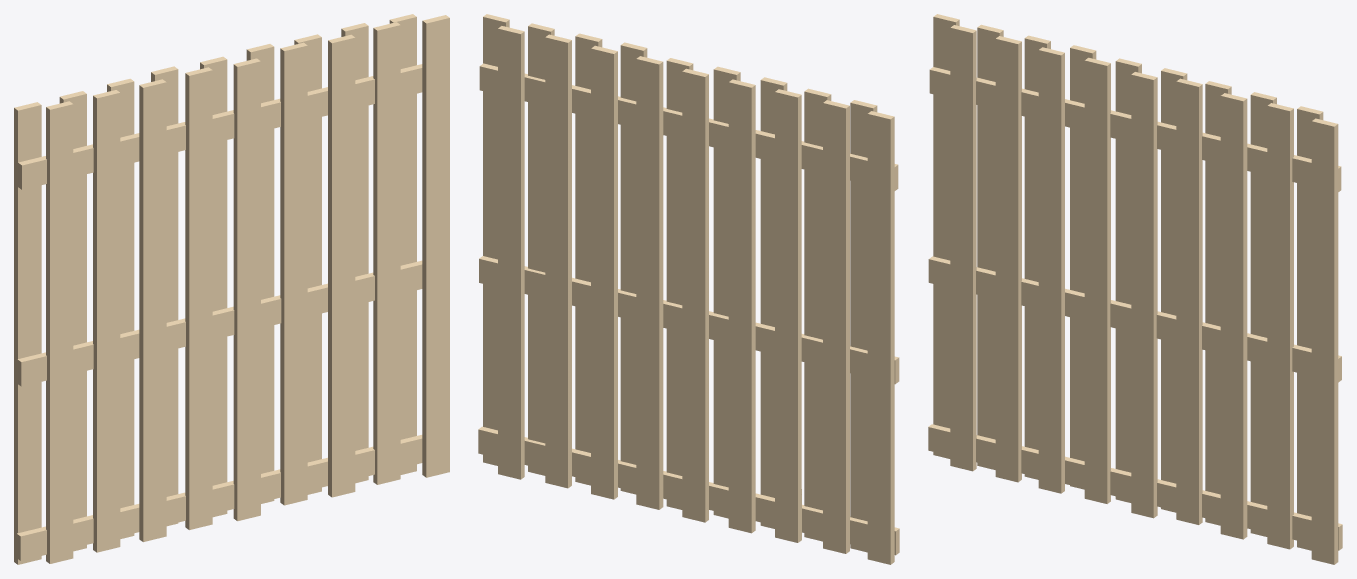
Rendered from fence_3.fbx.
The picture shows the model from 3 angles, left to right: view 1: azimuth 30°, elevation 25°; view 2: azimuth 150°, elevation 25°; view 3: azimuth 330°, elevation 25°; orthographic projection. The views are drawn at different scales.
Parts seen in each view (by area): view 1: model; view 2: model; view 3: model.
Part boxes in pixels (x1,y1,x2,y2): model: (14, 14, 449, 564); model: (478, 14, 899, 564); model: (928, 14, 1342, 564).
Size of the model in its own units: 309 by 319 by 18.08.
